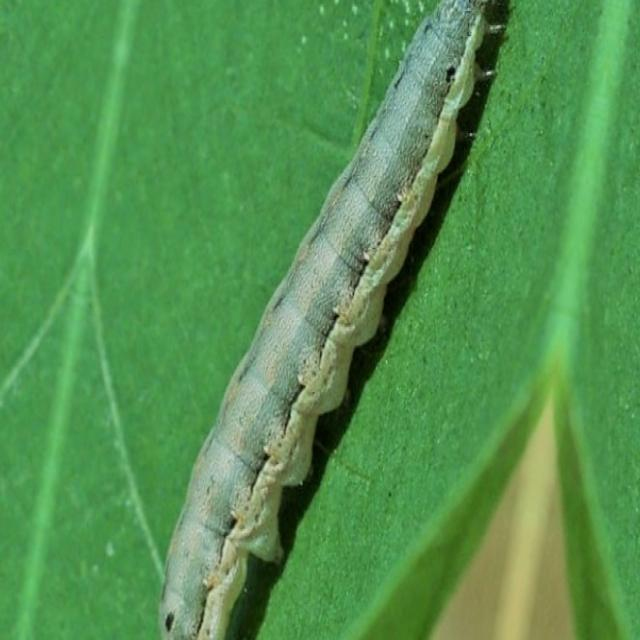Armyworm: (107, 1, 543, 640)
